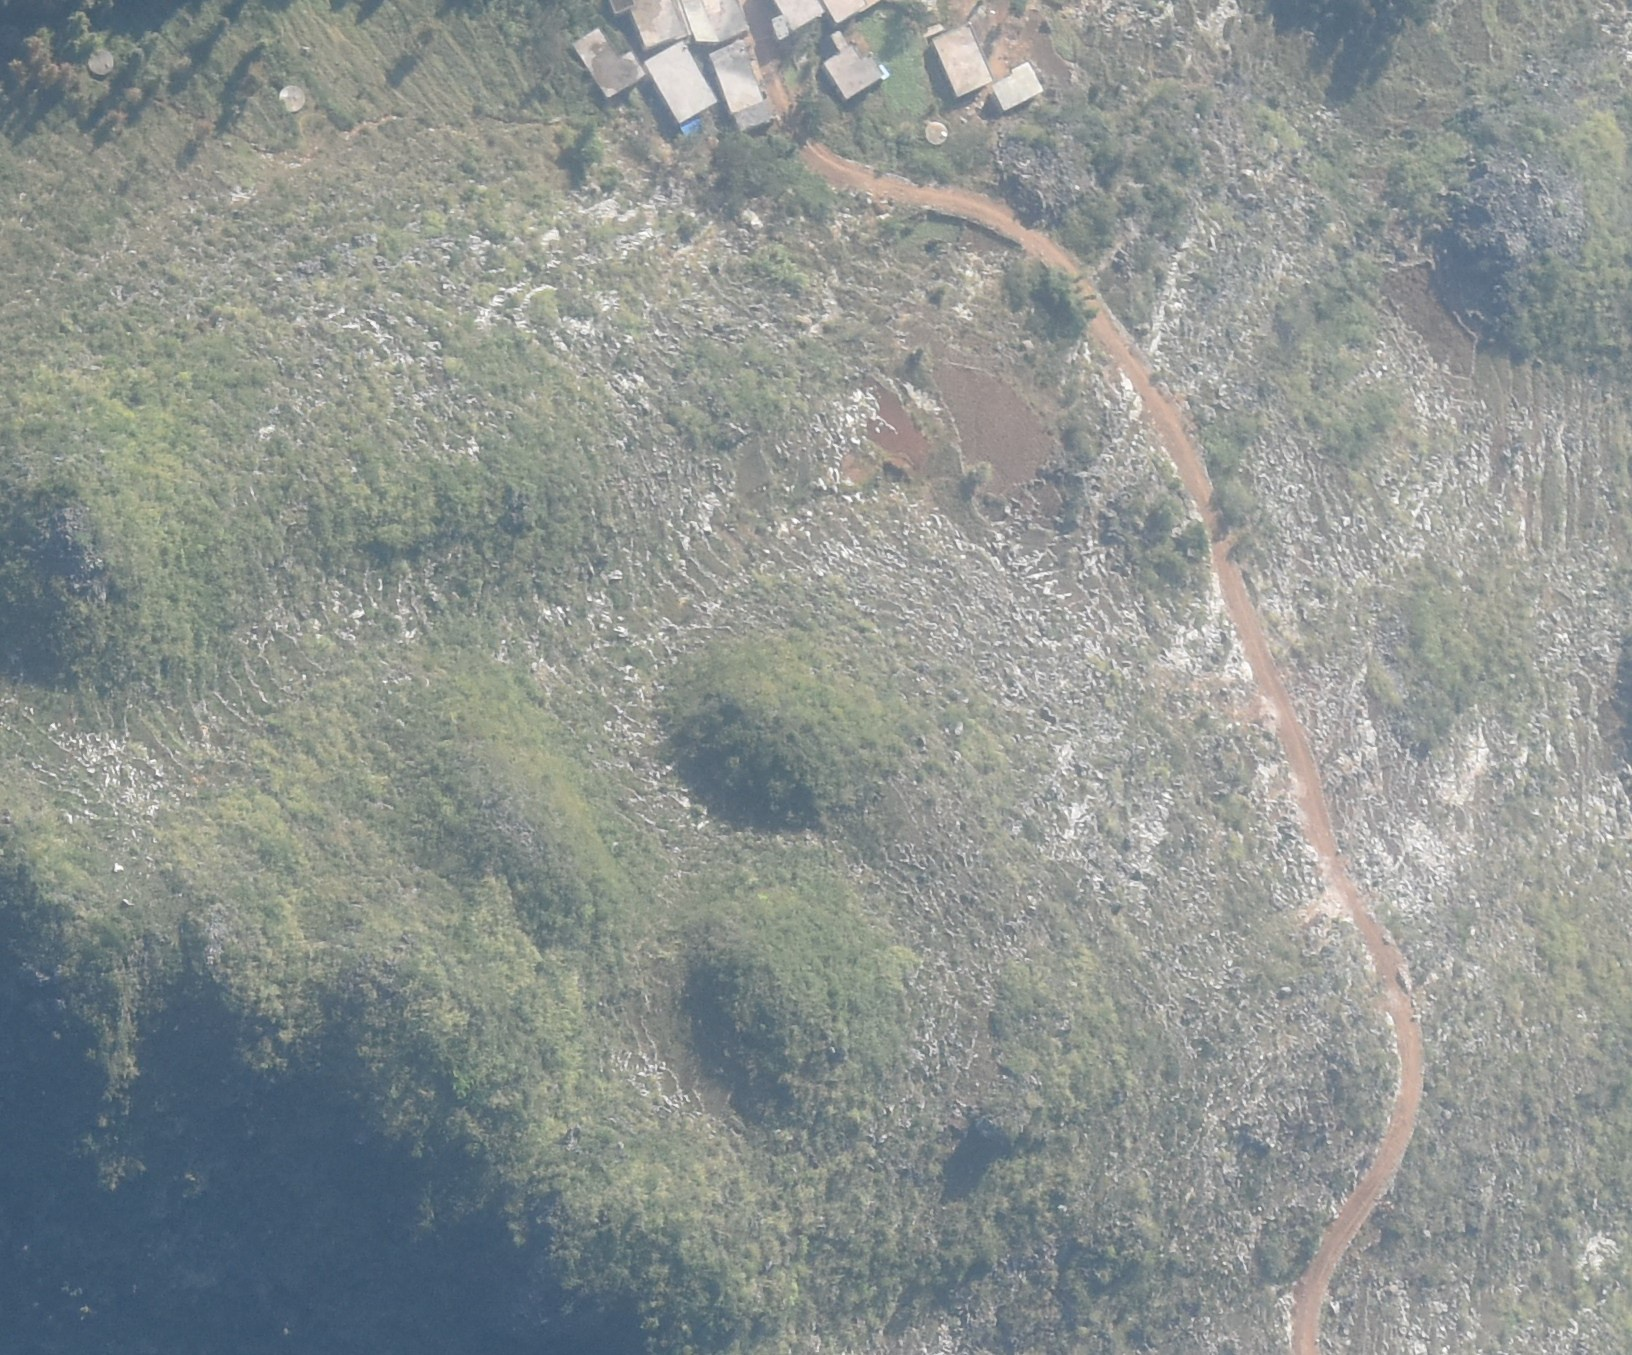building: (644, 42, 721, 124), (572, 25, 646, 98), (925, 19, 993, 98), (822, 29, 883, 98), (607, 1, 692, 47), (681, 1, 747, 44), (991, 61, 1045, 111), (765, 1, 827, 40), (822, 1, 880, 26)
prefabricated-house: (711, 39, 778, 128), (680, 121, 706, 137)
well: (280, 85, 305, 113), (90, 48, 115, 75), (927, 119, 947, 143)
